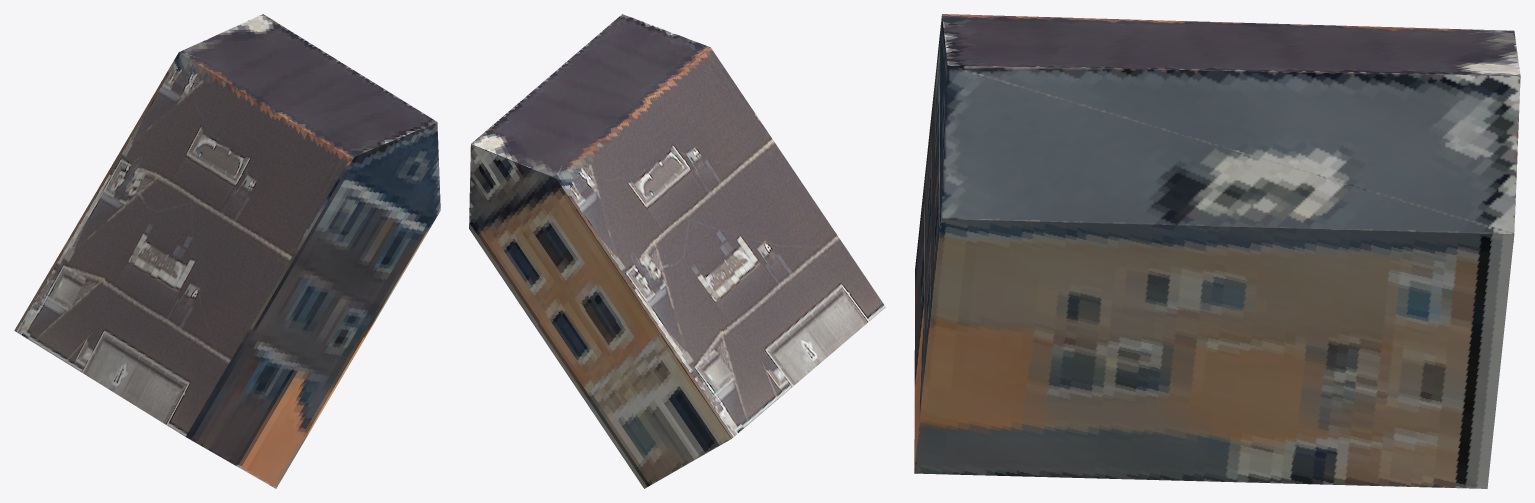
3 views of the same model, side by side, from view 1: azimuth 30°, elevation 25°; view 2: azimuth 150°, elevation 25°; view 3: azimuth 270°, elevation 25° (orthographic). The views are drawn at different scales.
Visible parts, largest first — view 1: BAG_0599100000688737 (×2); view 2: BAG_0599100000688737 (×2); view 3: BAG_0599100000688737 (×2).
Boxes of the visible parts, x1,y1,x2,y2 form: BAG_0599100000688737 (×2): (14, 14, 440, 488); BAG_0599100000688737 (×2): (469, 14, 885, 488); BAG_0599100000688737 (×2): (914, 14, 1520, 488).
Size of the model in its own units: 11.32 by 13.29 by 12.72.
2 materials, 2 textured.
